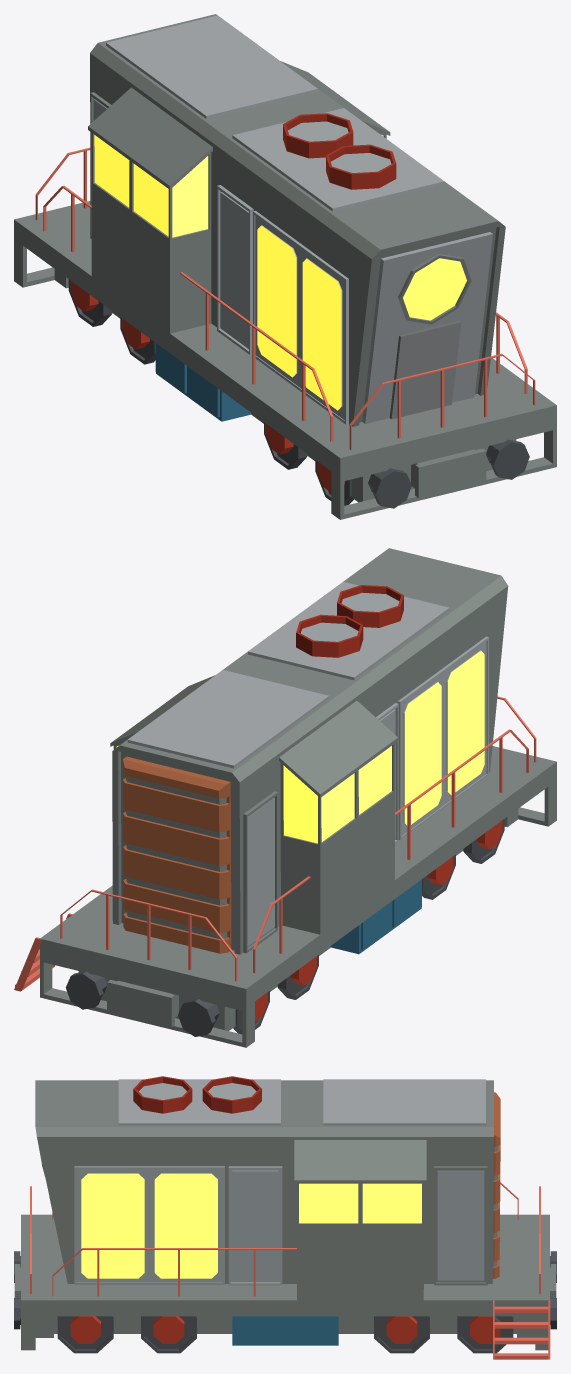
The model's file is SM_freight_train_01.glb.
3 views of the same model, one above another, from view 1: azimuth 30°, elevation 25°; view 2: azimuth 150°, elevation 25°; view 3: azimuth 270°, elevation 25° (orthographic). The views are drawn at different scales.
Parts seen in each view (by area): view 1: SM_freight_train_01; view 2: SM_freight_train_01; view 3: SM_freight_train_01.
Part boxes in pixels (x1,y1,x2,y2): SM_freight_train_01: (14,14,556,519); SM_freight_train_01: (14,548,556,1047); SM_freight_train_01: (14,1076,556,1359).
Bounding box in the file's own units: 1.74 × 1.96 × 4.11.
2 materials, 1 textured.
